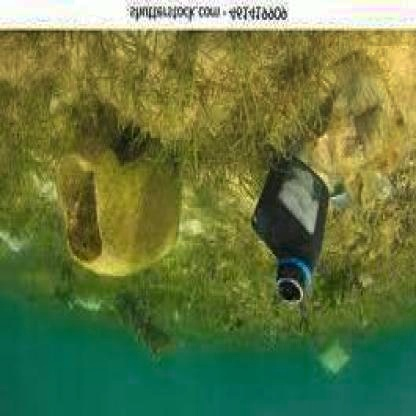plastic: (50, 136, 187, 274), (244, 145, 334, 308)
